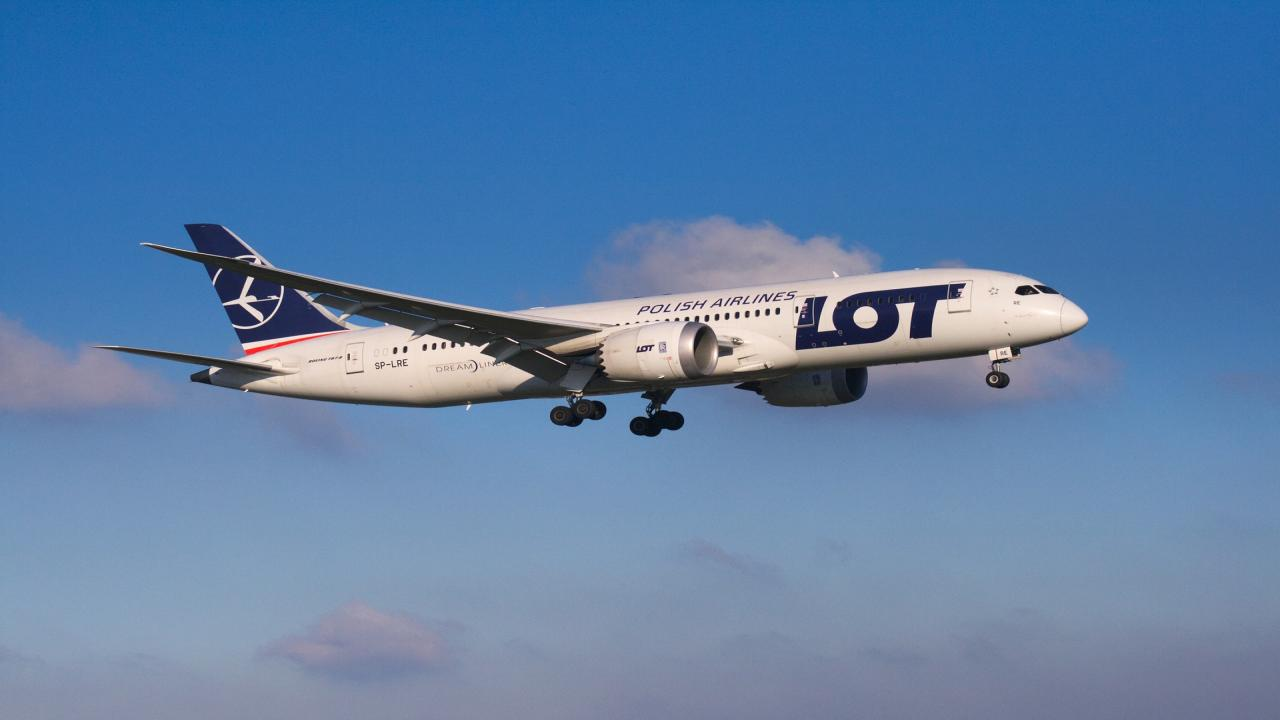Airplane: (88, 204, 1111, 451)
